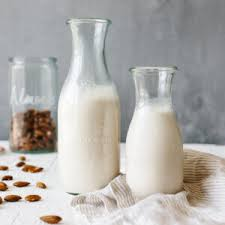milk: (55, 11, 122, 188), (127, 62, 187, 200)
